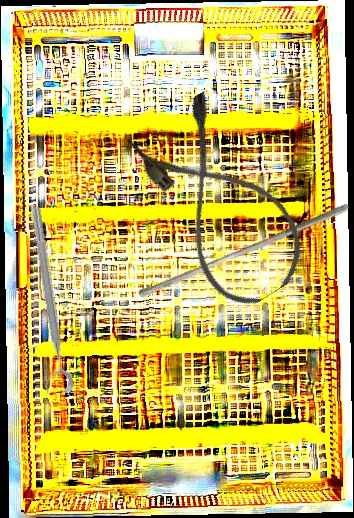Cannula: (121, 87, 321, 319)
Fixation Ring: (15, 205, 75, 397)
Pusher: (137, 194, 351, 307)
